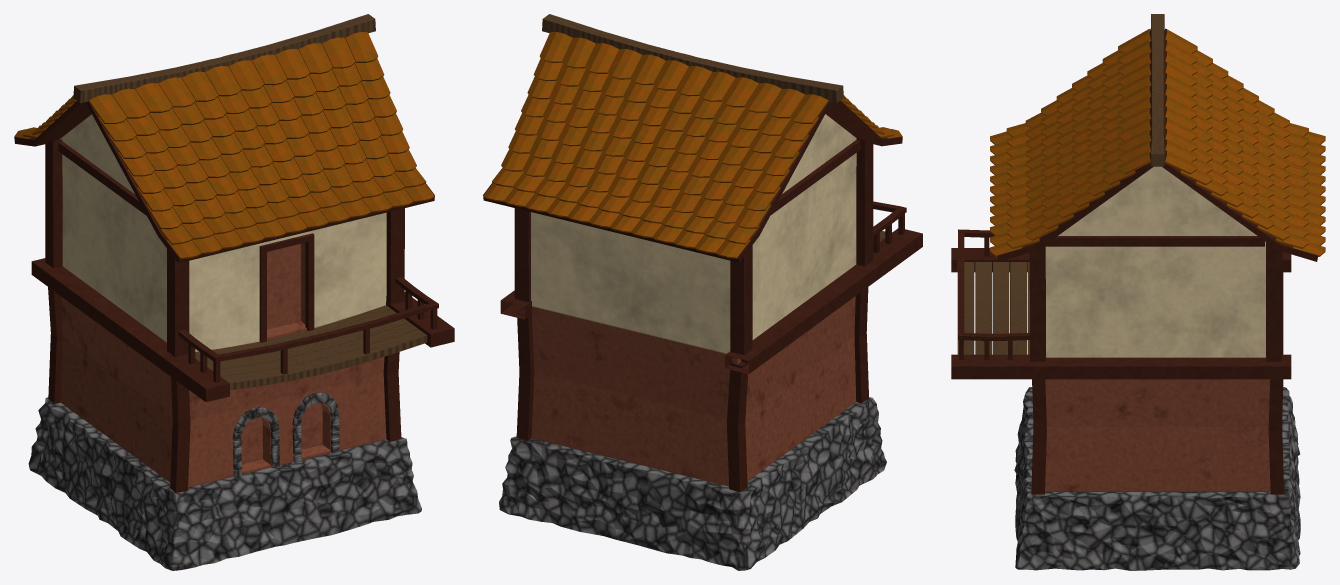
Rendered from Building_2.fbx.
3 renders of one model, left to right at view 1: azimuth 30°, elevation 25°; view 2: azimuth 150°, elevation 25°; view 3: azimuth 270°, elevation 25°, orthographic. The views are drawn at different scales.
Visible parts, largest first — view 1: NewBuilding_2.001; view 2: NewBuilding_2.001; view 3: NewBuilding_2.001.
Part boxes in pixels (box(x1,y1,x2,y2)): NewBuilding_2.001: box(14, 14, 454, 570); NewBuilding_2.001: box(483, 14, 922, 570); NewBuilding_2.001: box(951, 14, 1325, 570).
Bounding box in the file's own units: 281 × 250 × 355.
Materials: 1 (1 with a texture image).
